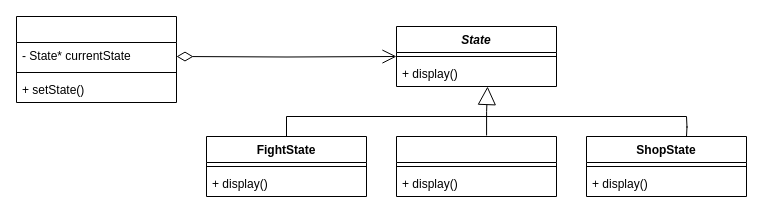
This 763x213 diagram has some shape labels left out. The shapes that lost their labels are listed below. From the top down, each one's box as (x1, y1, x2, y2) in pixels, then its label:
(16, 16, 176, 102): Game
(396, 136, 556, 196): GameState
